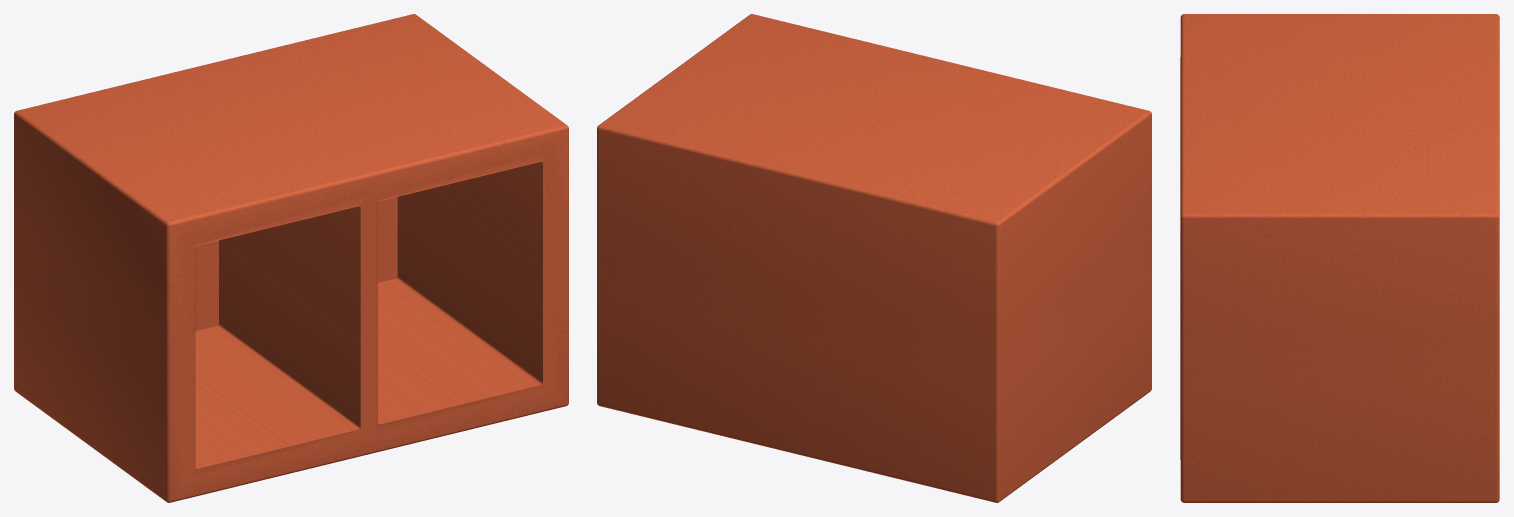
The model's file is KitchenCabinets.004.fbx.
3 renders of one model, left to right at view 1: azimuth 30°, elevation 25°; view 2: azimuth 150°, elevation 25°; view 3: azimuth 270°, elevation 25°, orthographic. The views are drawn at different scales.
Parts seen in each view (by area): view 1: KitchenCabinets.004_Baked; view 2: KitchenCabinets.004_Baked; view 3: KitchenCabinets.004_Baked.
Boxes of the visible parts, left/top/right/bottom form: KitchenCabinets.004_Baked: left=14, top=14, right=568, bottom=502; KitchenCabinets.004_Baked: left=597, top=14, right=1151, bottom=502; KitchenCabinets.004_Baked: left=1180, top=14, right=1499, bottom=502.
Bounding box in the file's own units: 150 × 100 × 100.
1 material, 1 textured.
